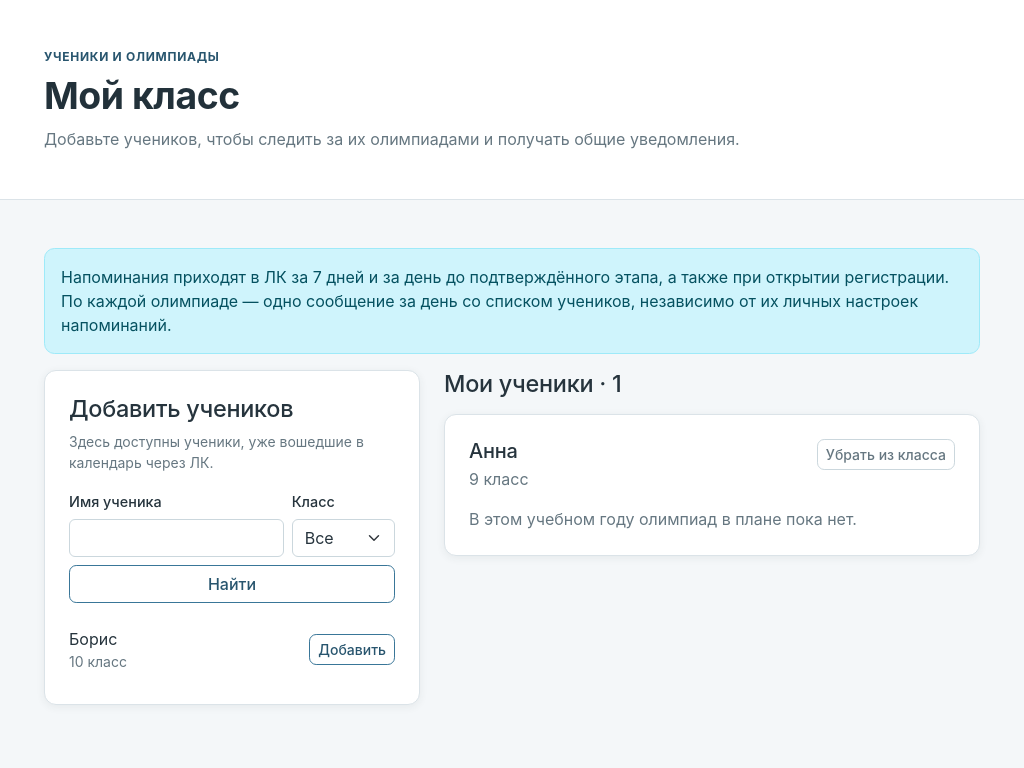
Test case: Мой класс › сообщает об ошибке добавления и сохраняет список
Click the button with aria-label "Добавить: Борис".
click(352, 650)  # box top-left (309, 634), bottom-right (395, 665)
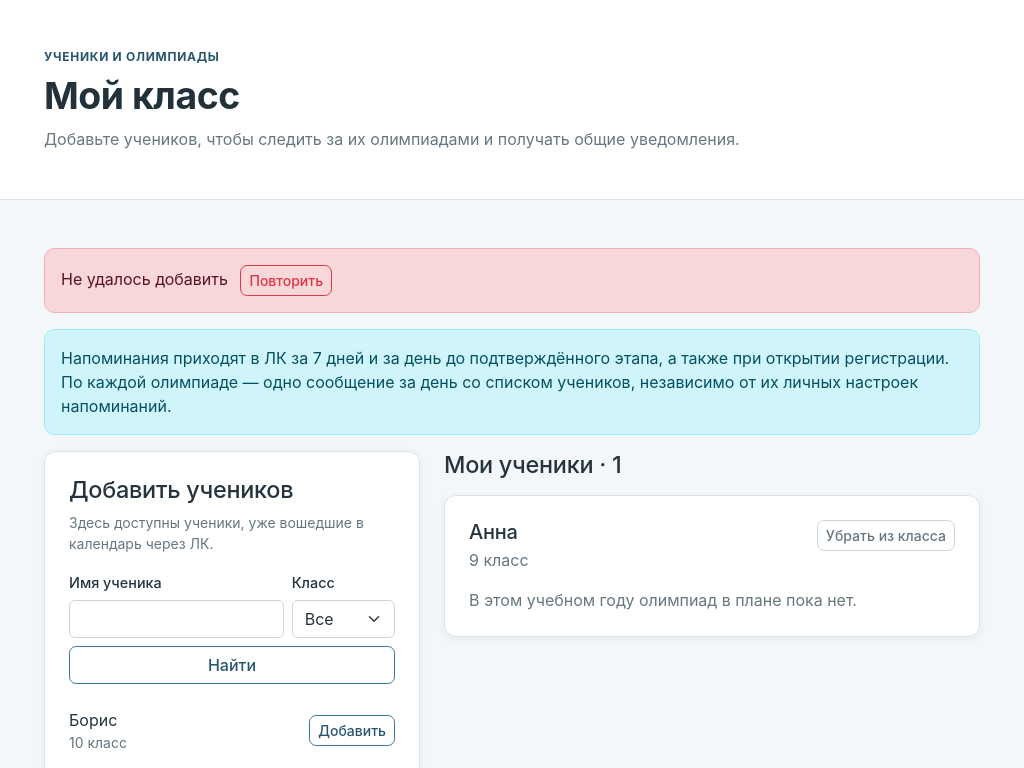
Expected: the text "Мои ученики · 1" is shown, top-left (444, 450), bottom-right (622, 479)
Now the message "Не удалось добавить Повторить" is shown, box top-left (44, 248), bottom-right (980, 313)
